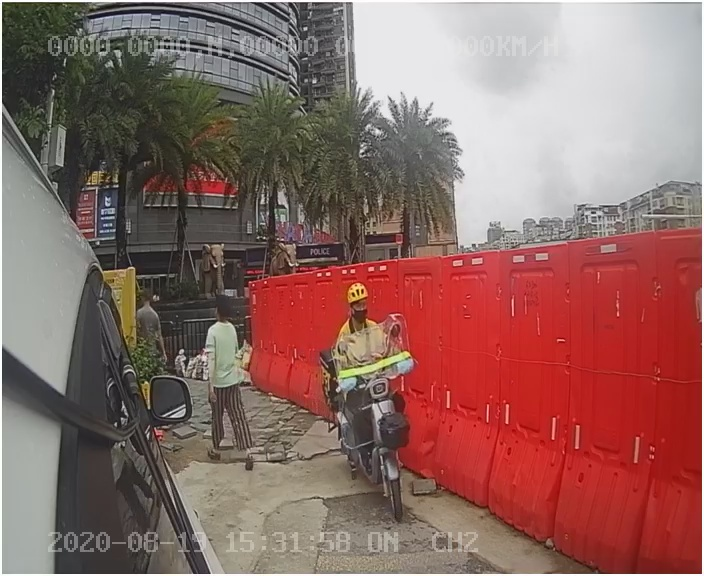person: (191, 295, 271, 476)
